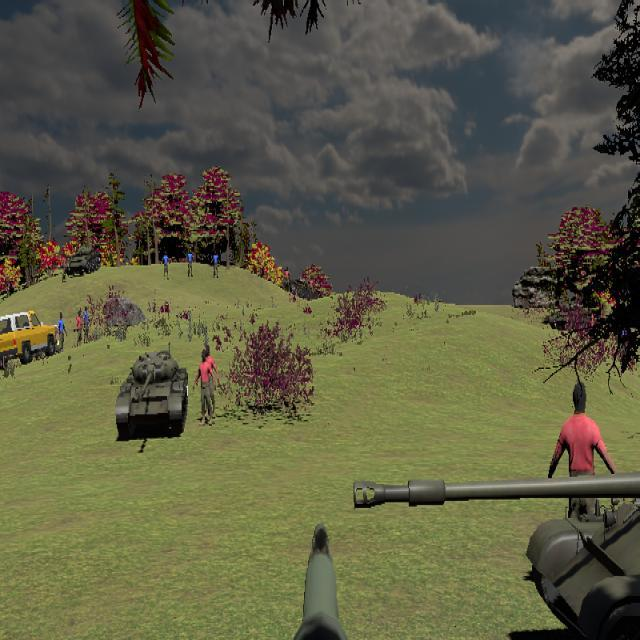Human: (547, 382, 618, 528), (193, 348, 216, 426)
Tank: (115, 351, 188, 439), (66, 242, 106, 277)
car: (0, 311, 59, 367)
